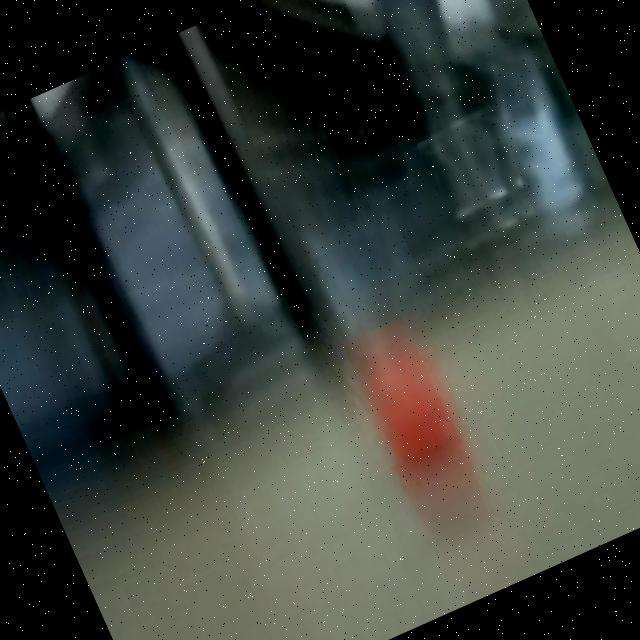ping-pong-ball: (346, 345, 476, 479)
